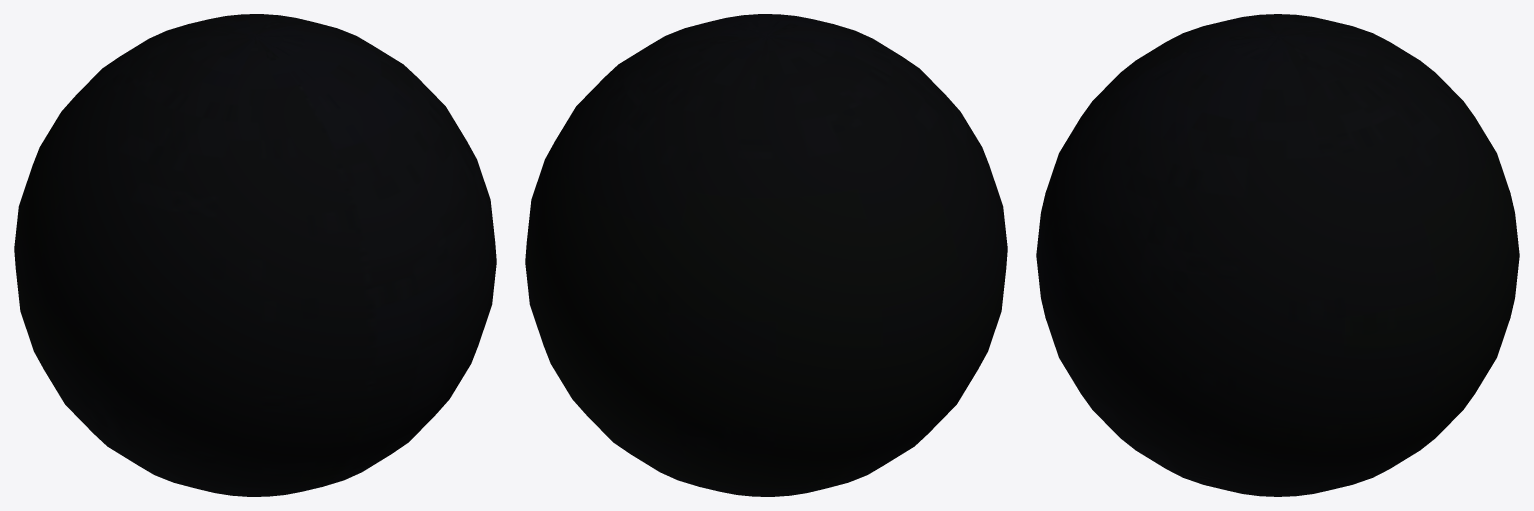
The model's file is Bulet.FBX.
3 renders of one model, left to right at view 1: azimuth 30°, elevation 25°; view 2: azimuth 150°, elevation 25°; view 3: azimuth 270°, elevation 25°, orthographic.
Parts seen in each view (by area): view 1: Sphere002; view 2: Sphere002; view 3: Sphere002.
Part boxes in pixels (x1,y1,x2,y2): Sphere002: (14,14,496,496); Sphere002: (525,14,1007,496); Sphere002: (1036,14,1519,496).
Bounding box in the file's own units: 51.12 × 51.12 × 51.12.
Materials: 2 (2 with a texture image).
